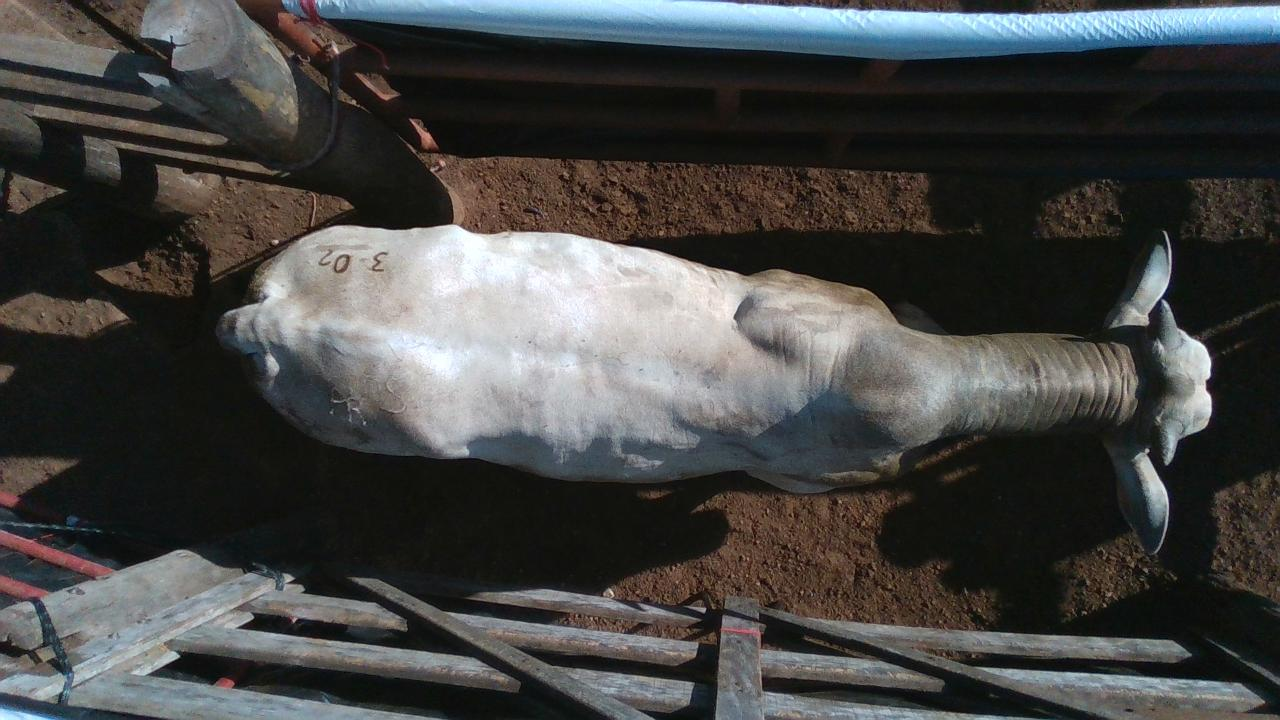cattle: (214, 220, 1214, 556)
